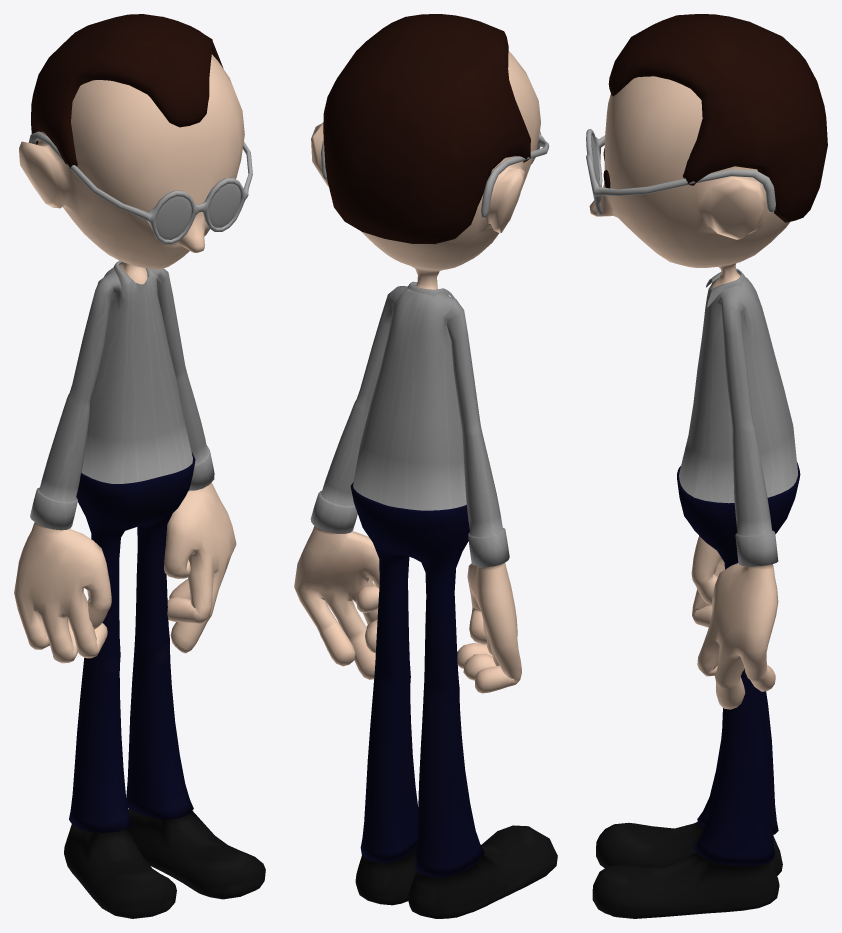
Rendered from Animation_Cartoon_Starter_000145.obj.
The picture shows the model from 3 angles, left to right: view 1: azimuth 30°, elevation 25°; view 2: azimuth 150°, elevation 25°; view 3: azimuth 270°, elevation 25°; orthographic projection.
Visible parts, largest first — view 1: bm_09; view 2: bm_09; view 3: bm_09.
Boxes of the visible parts, bbox=[...] form: bm_09: bbox=[14, 14, 265, 918]; bm_09: bbox=[294, 14, 557, 918]; bm_09: bbox=[586, 14, 827, 918].
Size of the model in its own units: 0.407 by 1.52 by 0.386.
3 materials, 1 textured.
